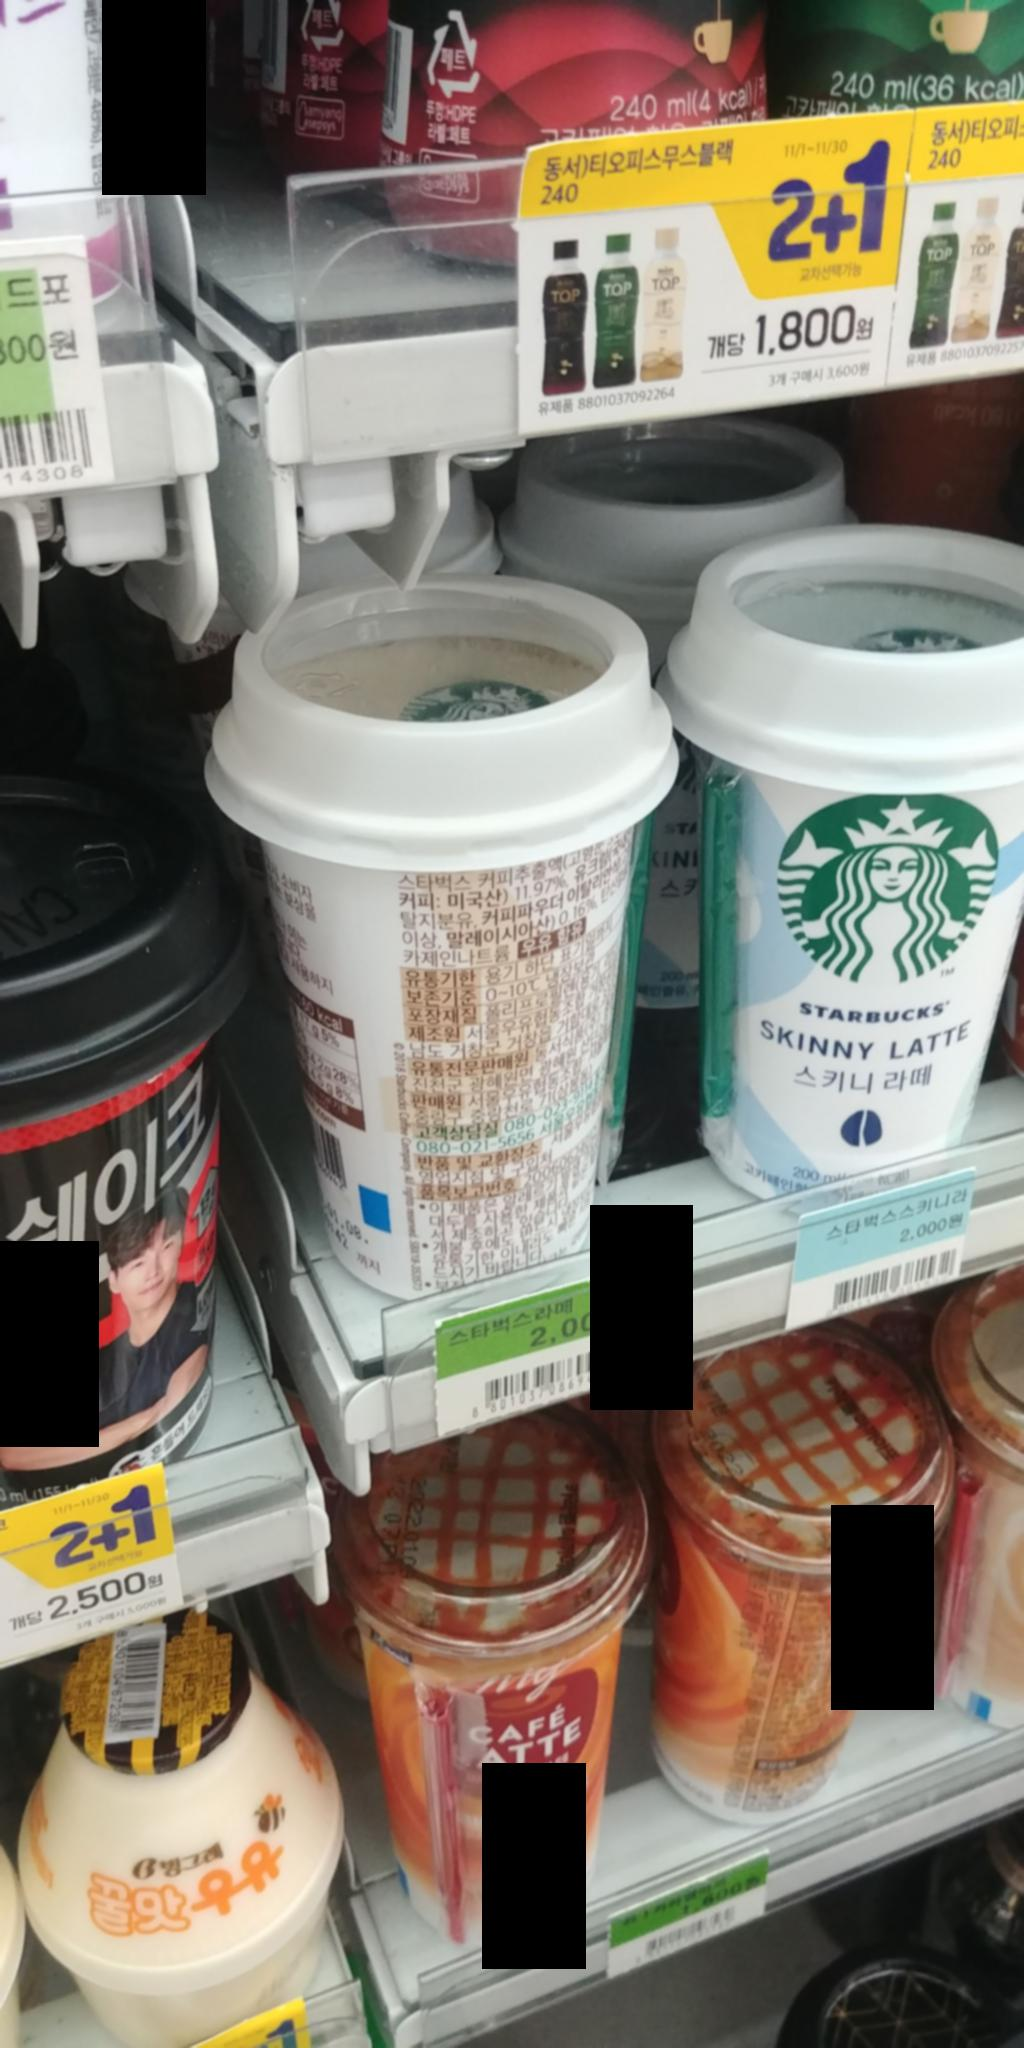starbucks_cafelatte: (185, 569, 701, 1309)
